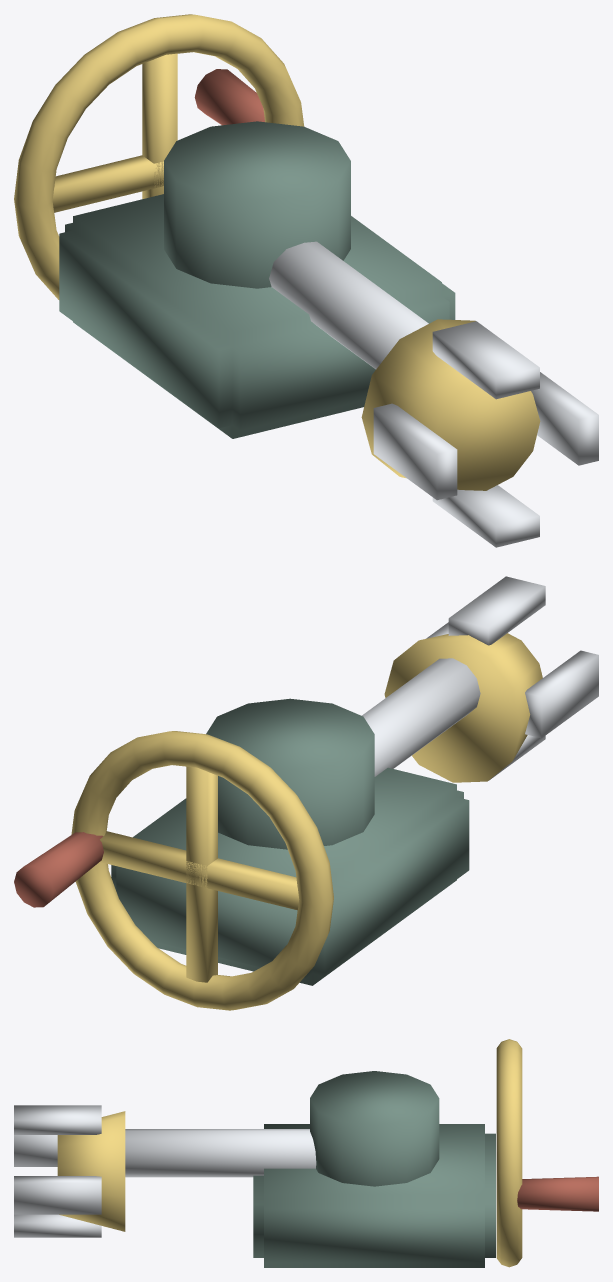
Rendered from peeler-crank.glb.
3 renders of one model, top to bottom at view 1: azimuth 30°, elevation 25°; view 2: azimuth 150°, elevation 25°; view 3: azimuth 270°, elevation 25°, orthographic. The views are drawn at different scales.
Visible parts, largest first — view 1: Lathe_Body, Cutter_Head, Crank_Handle; view 2: Lathe_Body, Crank_Handle, Cutter_Head; view 3: Lathe_Body, Cutter_Head, Crank_Handle.
Boxes of the visible parts, left/top/right/bottom form: Lathe_Body: left=59, top=121, right=455, bottom=438; Cutter_Head: left=361, top=319, right=598, bottom=547; Crank_Handle: left=14, top=14, right=304, bottom=299; Lathe_Body: left=111, top=658, right=480, bottom=985; Crank_Handle: left=14, top=731, right=333, bottom=1010; Cutter_Head: left=384, top=576, right=598, bottom=782; Lathe_Body: left=125, top=1071, right=495, bottom=1267; Cutter_Head: left=14, top=1105, right=125, bottom=1237; Crank_Handle: left=496, top=1039, right=598, bottom=1267.
Bounding box in the file's own units: 0.17 × 0.17 × 0.434.
